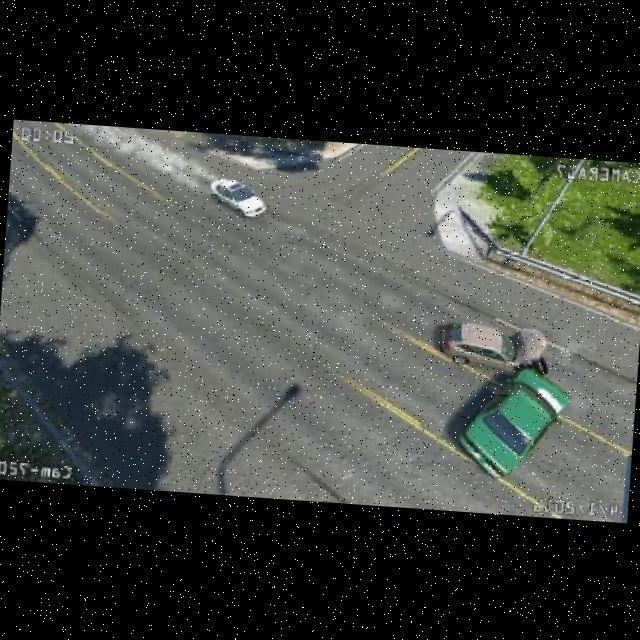accident: (424, 308, 575, 474)
